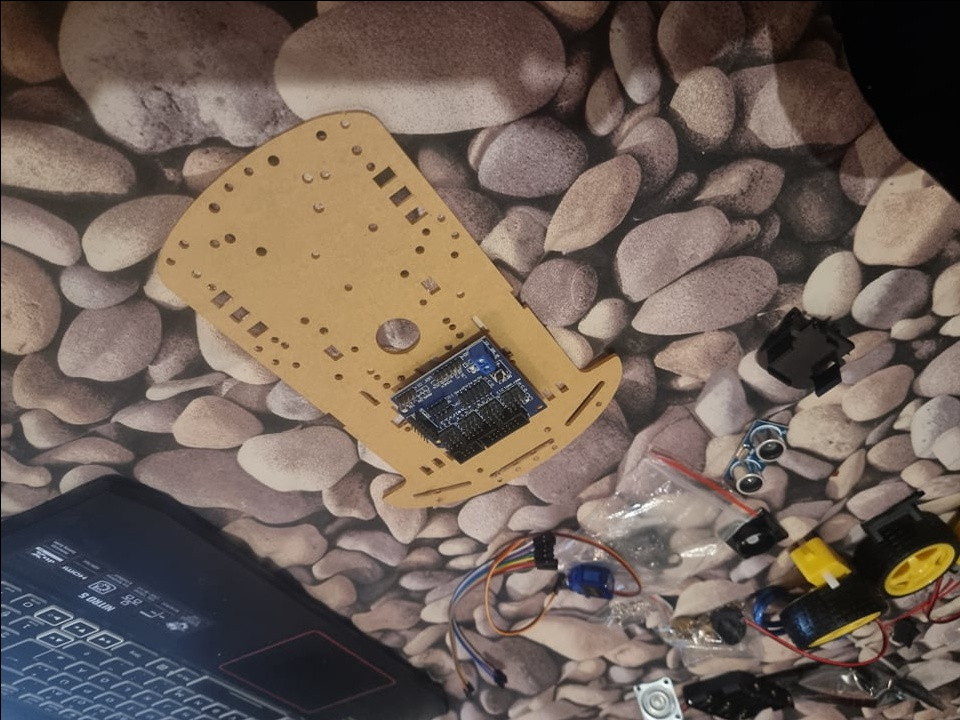5V EXPANSION: (389, 335, 550, 466)
BATTERY BOX: (683, 666, 796, 719)
SENSOR: (725, 421, 787, 494)
